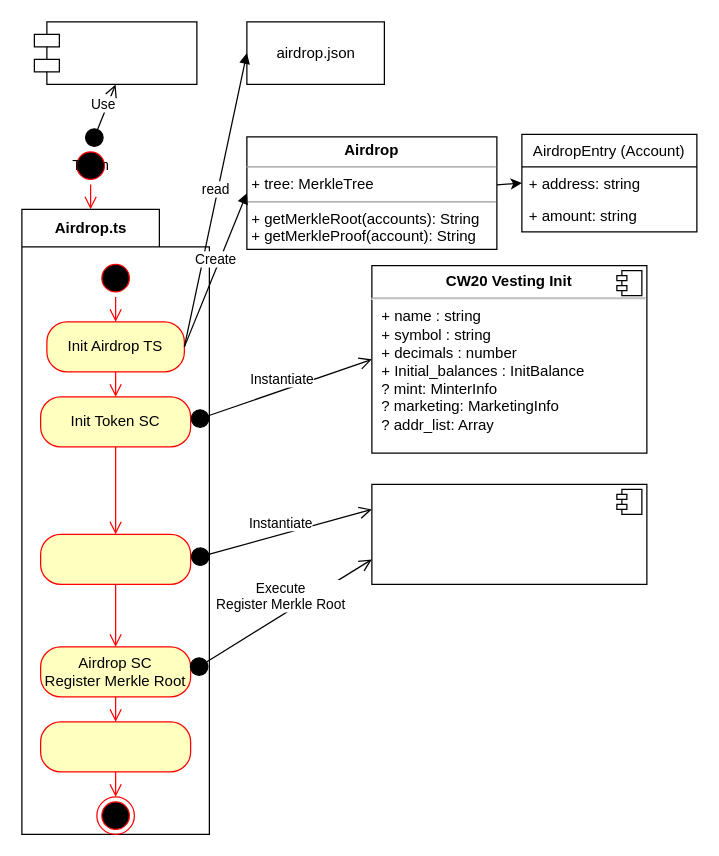
Image size: 719x856. Some labels were removed from this diagram. Each missing label, with the centre of its shape:
CW20 Vesting Airdrop Init ? owner : string + cw20_token_addr : string: (x=509, y=533)
Init Airdrop SC: (x=115, y=558)
Send Tokens From Token SC to Airdrop SC: (x=115, y=746)
Wynd Foundation Multi-sig wallet: (x=115, y=52)
